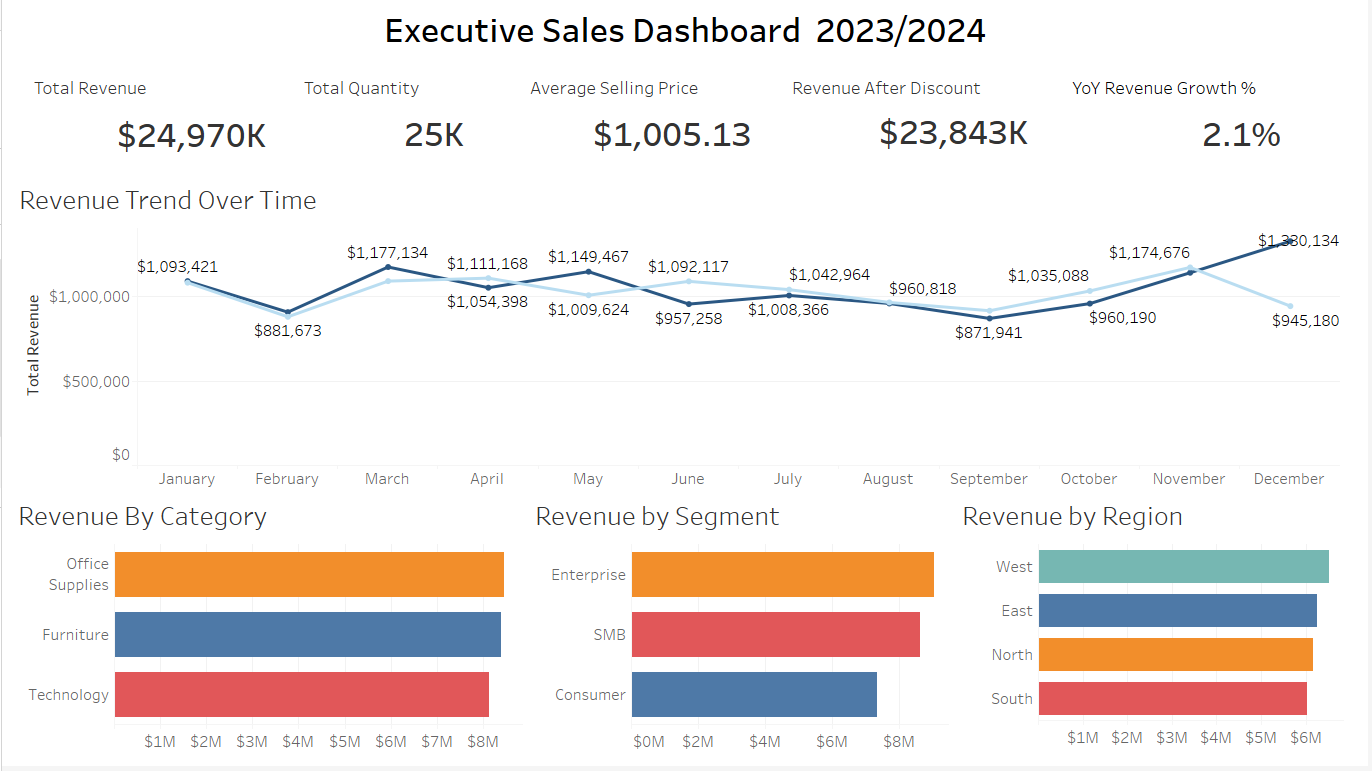

This screenshot's page, from the dashboard's own definition file:
{"tool":"tableau","page":{"name":"Executive Summary","canvas":[1366,768],"ordinal":0},"visuals":[{"type":"text","box":[8,8,1350,45]},{"type":"worksheet","title":"Total Revenue","mark":"Text","box":[24,69,270,95]},{"type":"worksheet","title":"Total Quantity","mark":"Text","box":[294,69,226,95]},{"type":"worksheet","title":"Average Selling Price","mark":"Text","box":[520,69,262,95]},{"type":"worksheet","title":"Revenue After Discount","mark":"Text","box":[782,69,280,95]},{"type":"worksheet","title":"YoY Revenue Growth","mark":"Text","box":[1062,69,280,95]},{"type":"worksheet","title":"Revenue Trend Over Time","mark":"Line","rows":["Calculation_1305199522487545856"],"cols":["MonthName"],"box":[8,180,1350,312]},{"type":"worksheet","title":"Category Performance","mark":"Bar","rows":["Category"],"cols":["Calculation_1305199522487545856"],"box":[8,492,517,268]},{"type":"worksheet","title":"Segment Breakdown","mark":"Bar","rows":["Segment"],"cols":["Calculation_1305199522487545856"],"box":[525,492,426.5,268]},{"type":"worksheet","title":"Regional Performance","mark":"Bar","rows":["Region (Sales.csv)"],"cols":["Calculation_1305199522487545856"],"box":[951.5,492,406.5,268]}]}

Visuals, with their boxes in screenshot pixels (x1, y1, x2, y2), scaled from the page's 1366x768 canvas onto the 1372x771 screenshot:
text: [8,8,1364,53]
"Total Revenue" worksheet (Text marks): [24,69,295,165]
"Total Quantity" worksheet (Text marks): [295,69,522,165]
"Average Selling Price" worksheet (Text marks): [522,69,785,165]
"Revenue After Discount" worksheet (Text marks): [785,69,1067,165]
"YoY Revenue Growth" worksheet (Text marks): [1067,69,1348,165]
"Revenue Trend Over Time" worksheet (Line marks): [8,181,1364,494]
"Category Performance" worksheet (Bar marks): [8,494,527,763]
"Segment Breakdown" worksheet (Bar marks): [527,494,956,763]
"Regional Performance" worksheet (Bar marks): [956,494,1364,763]
